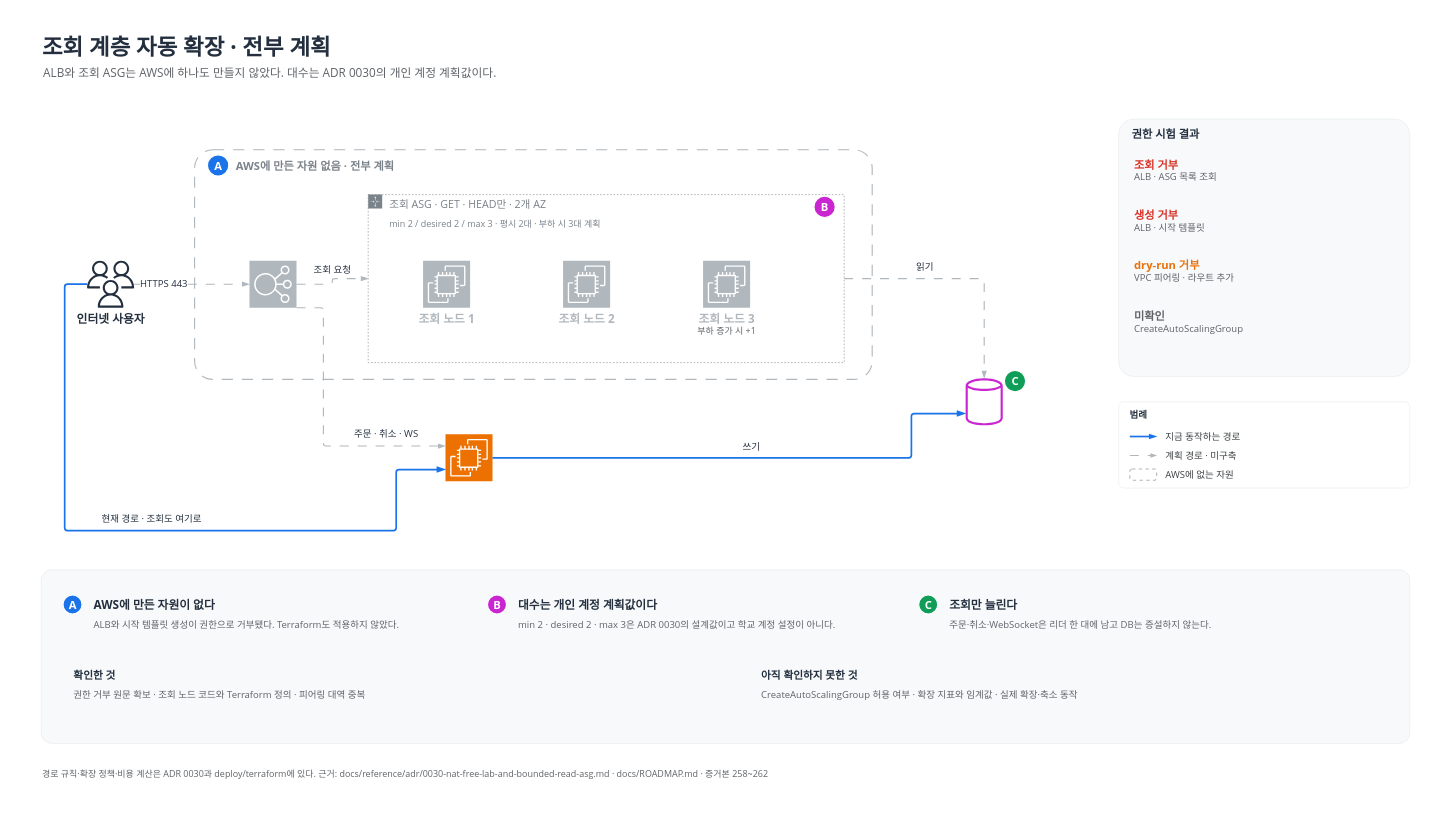
The diagram is 1453 pixels wide and 825 high, and some of its shapes have lost their labels. Here are the shapes that lost their labels. From the top down, the centre of each, then its label:
At point 273,284: "ALB".
At point 983,401: "DB 조회 ASG 제외".
At point 469,457: "app-1 리더 매칭 엔진 · 현재 1대".
